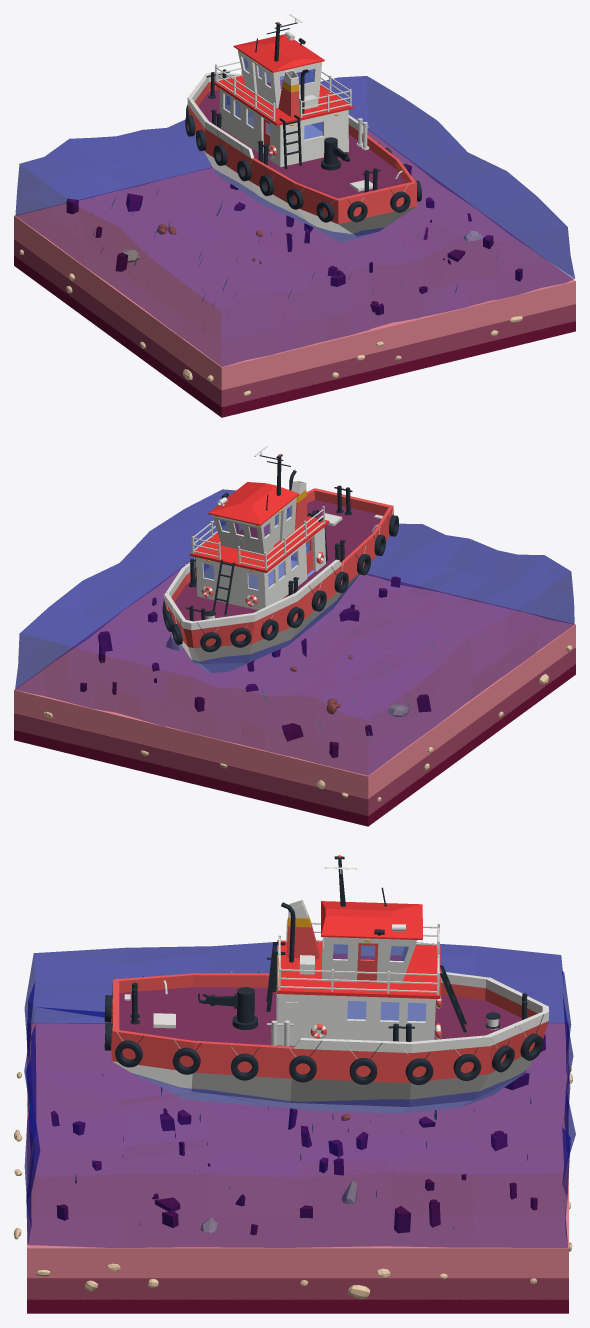
File: Ship.fbx
3 views of the same model, one above another, from view 1: azimuth 30°, elevation 25°; view 2: azimuth 150°, elevation 25°; view 3: azimuth 270°, elevation 25° (orthographic). The views are drawn at different scales.
Parts seen in each view (by area): view 1: Water, Cube_2_2, Body, Cube_1_2, Cube_2, Floor_1, Floor_2, Roof, Cube_2_4, Stones_2, Pipe_Big; view 2: Water, Cube_2_2, Body, Cube_1_2, Cube_2, Floor_1, Floor_2, Roof, Cube_2_4, Stones_2, Pipe_Big; view 3: Water, Cube_2_2, Body, Cube_1_2, Cube_2, Floor_1, Cube_2_4, Floor_2, Roof, Stones_2, Pipe_Big, Cylinder_5.
Part boxes in pixels (x1,y1,x2,y2): Water: (15, 76, 574, 366); Cube_2_2: (14, 129, 575, 389); Body: (187, 71, 416, 242); Cube_1_2: (14, 238, 575, 407); Cube_2: (14, 255, 575, 417); Floor_1: (219, 88, 348, 166); Floor_2: (238, 50, 321, 108); Roof: (233, 34, 324, 72); Cube_2_4: (214, 76, 353, 125); Stones_2: (19, 231, 522, 395); Pipe_Big: (278, 70, 298, 116); Water: (15, 489, 574, 775); Cube_2_2: (14, 558, 575, 798); Body: (164, 488, 393, 672); Cube_1_2: (14, 647, 575, 815); Cube_2: (14, 664, 575, 826); Floor_1: (195, 527, 325, 610); Floor_2: (212, 497, 296, 554); Roof: (208, 482, 299, 525); Cube_2_4: (190, 516, 329, 572); Stones_2: (44, 633, 572, 801); Pipe_Big: (291, 481, 307, 529); Water: (24, 942, 575, 1247); Cube_2_2: (27, 1023, 568, 1277); Body: (111, 971, 548, 1113); Cube_1_2: (27, 1278, 568, 1300); Cube_2: (27, 1299, 568, 1313); Floor_1: (276, 990, 435, 1045); Cube_2_4: (277, 940, 440, 998); Floor_2: (322, 937, 416, 983); Roof: (321, 901, 422, 940); Stones_2: (14, 1066, 572, 1299); Pipe_Big: (286, 900, 319, 958); Cylinder_5: (237, 987, 254, 1023).
Size of the model in its own units: 1635 by 1136 by 1676.
